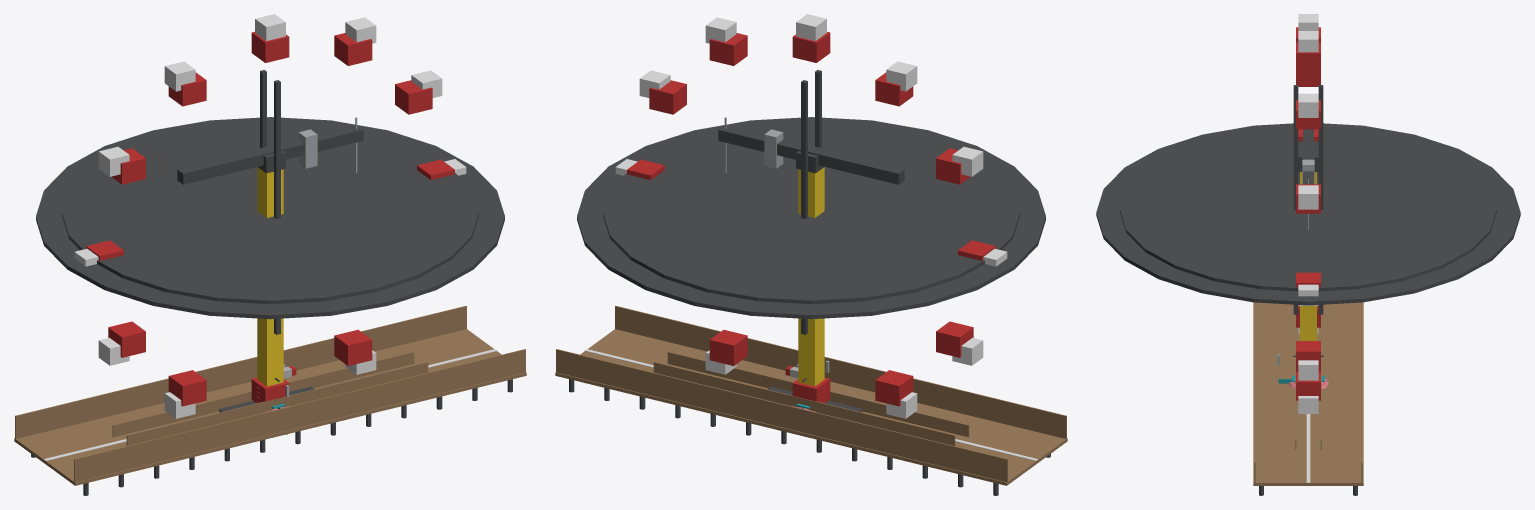
File: Props_All.fbx
3 views of the same model, side by side, from view 1: azimuth 30°, elevation 25°; view 2: azimuth 150°, elevation 25°; view 3: azimuth 270°, elevation 25° (orthographic). The views are drawn at different scales.
Parts seen in each view (by area): view 1: SM_FerrisWheel_cm, SM_Pier_Big_cm, SM_Pier_cm, SM_Crane_cm; view 2: SM_FerrisWheel_cm, SM_Pier_Big_cm, SM_Pier_cm, SM_Crane_cm; view 3: SM_FerrisWheel_cm, SM_Pier_Big_cm, SM_Crane_cm.
Part boxes in pixels (x1,y1,x2,y2): SM_FerrisWheel_cm: [36, 14, 504, 418]; SM_Pier_Big_cm: [14, 306, 526, 495]; SM_Pier_cm: [112, 351, 428, 445]; SM_Crane_cm: [177, 117, 363, 386]; SM_FerrisWheel_cm: [577, 14, 1045, 418]; SM_Pier_Big_cm: [555, 306, 1067, 495]; SM_Pier_cm: [653, 351, 969, 445]; SM_Crane_cm: [718, 117, 904, 386]; SM_FerrisWheel_cm: [1096, 14, 1520, 413]; SM_Pier_Big_cm: [1253, 302, 1363, 495]; SM_Crane_cm: [1298, 129, 1318, 340].
Size of the model in its own units: 5400 by 6000 by 5130.
